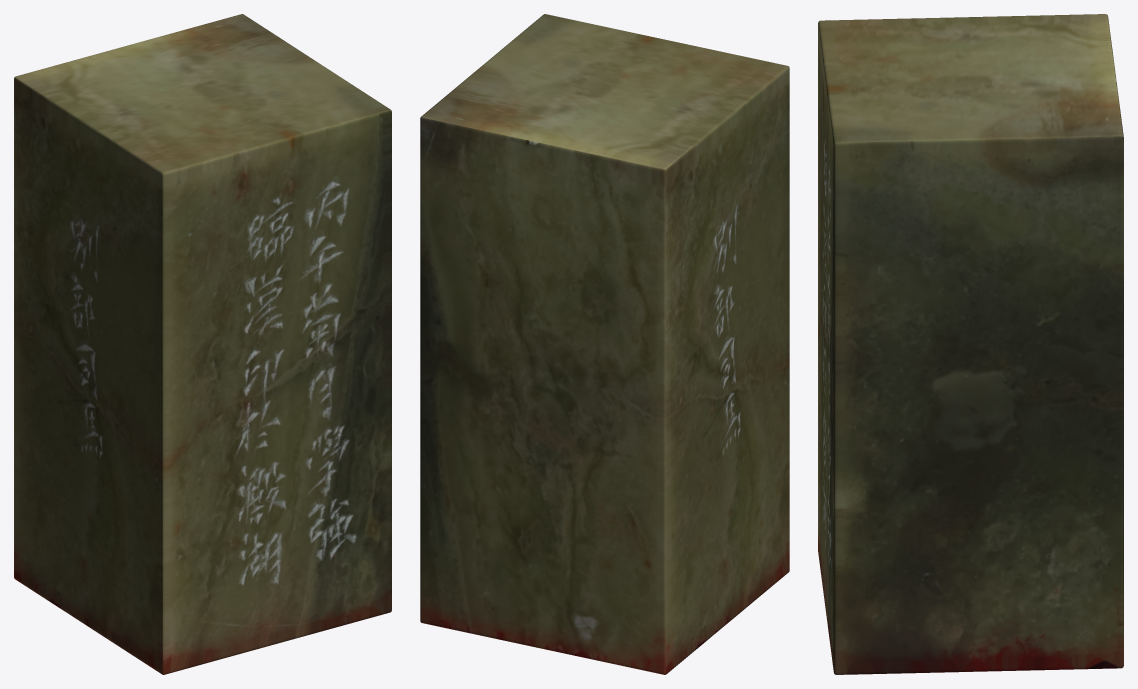
File: biebusima.glb
3 renders of one model, left to right at view 1: azimuth 30°, elevation 25°; view 2: azimuth 150°, elevation 25°; view 3: azimuth 270°, elevation 25°, orthographic. The views are drawn at different scales.
Visible parts, largest first — view 1: geometry_0; view 2: geometry_0; view 3: geometry_0.
Boxes of the visible parts, x1,y1,x2,y2 form: geometry_0: (14,14,391,674); geometry_0: (420,14,789,674); geometry_0: (818,14,1123,674).
Bounding box in the file's own units: 0.5038 × 0.9806 × 0.5028.
Materials: 1 (1 with a texture image).
